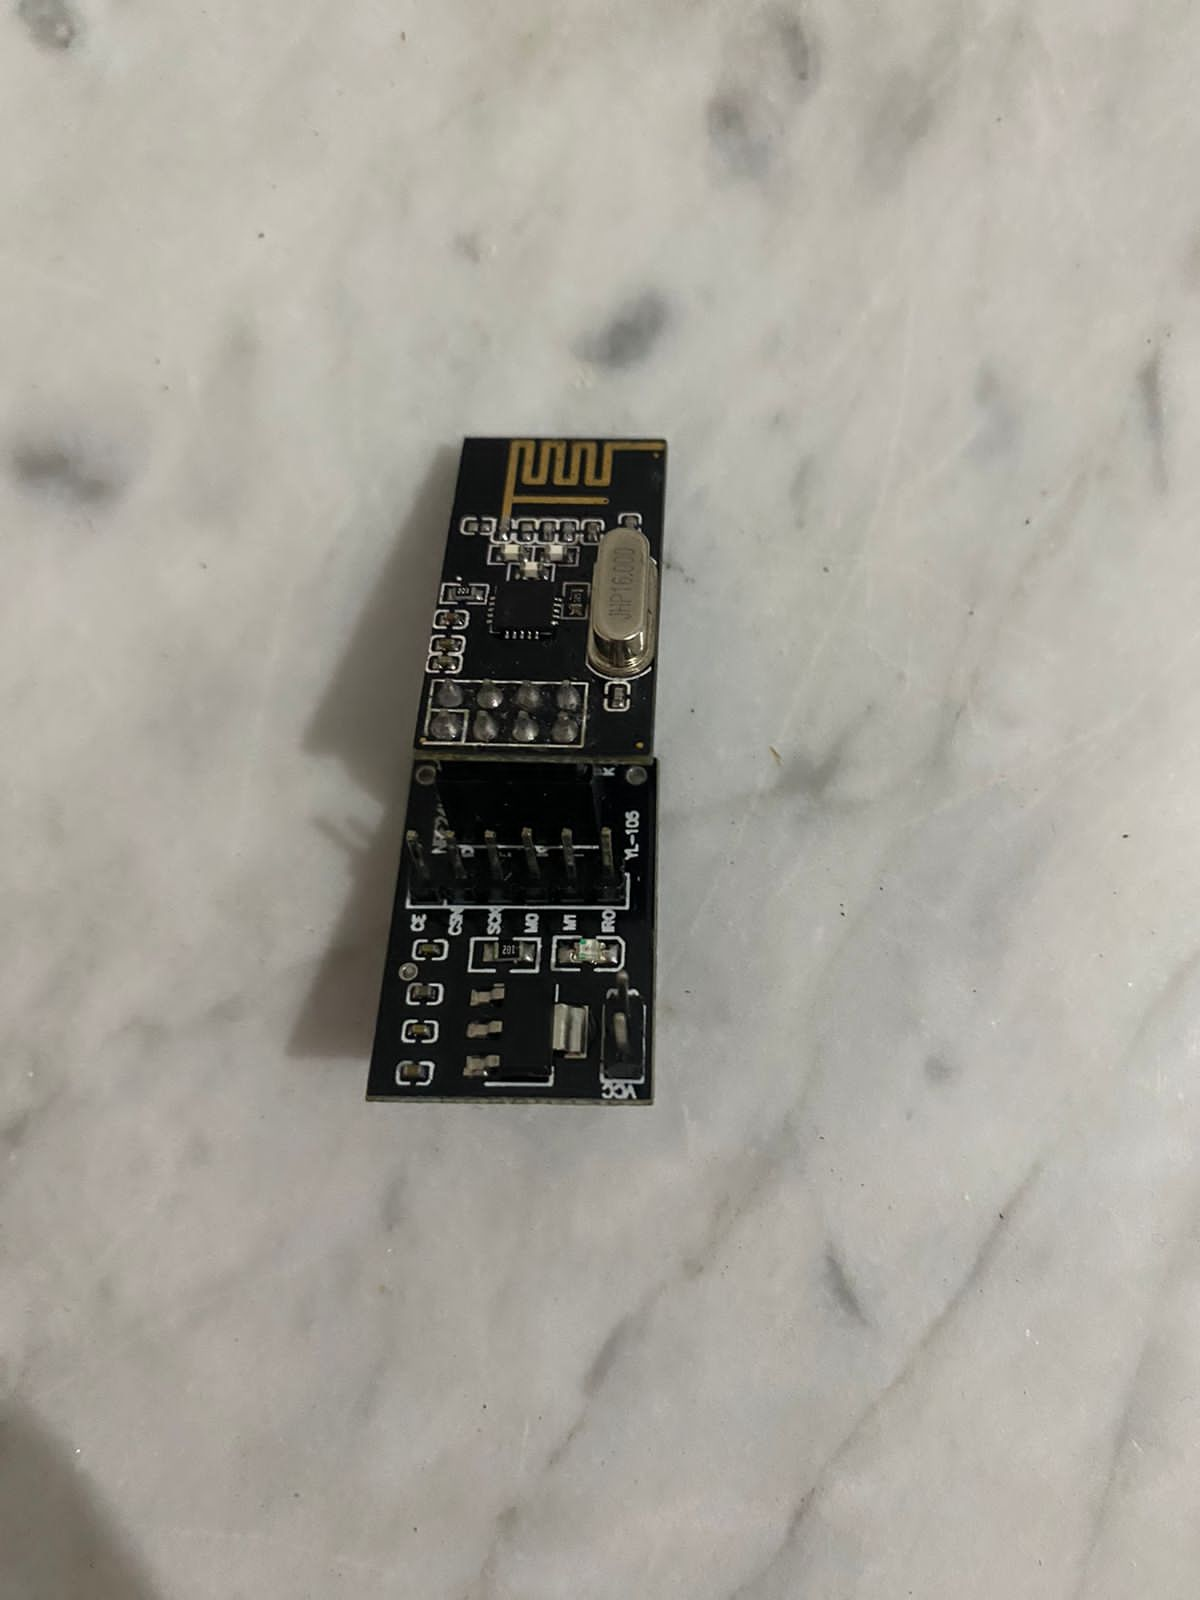RF-module: (371, 401, 739, 1179)
